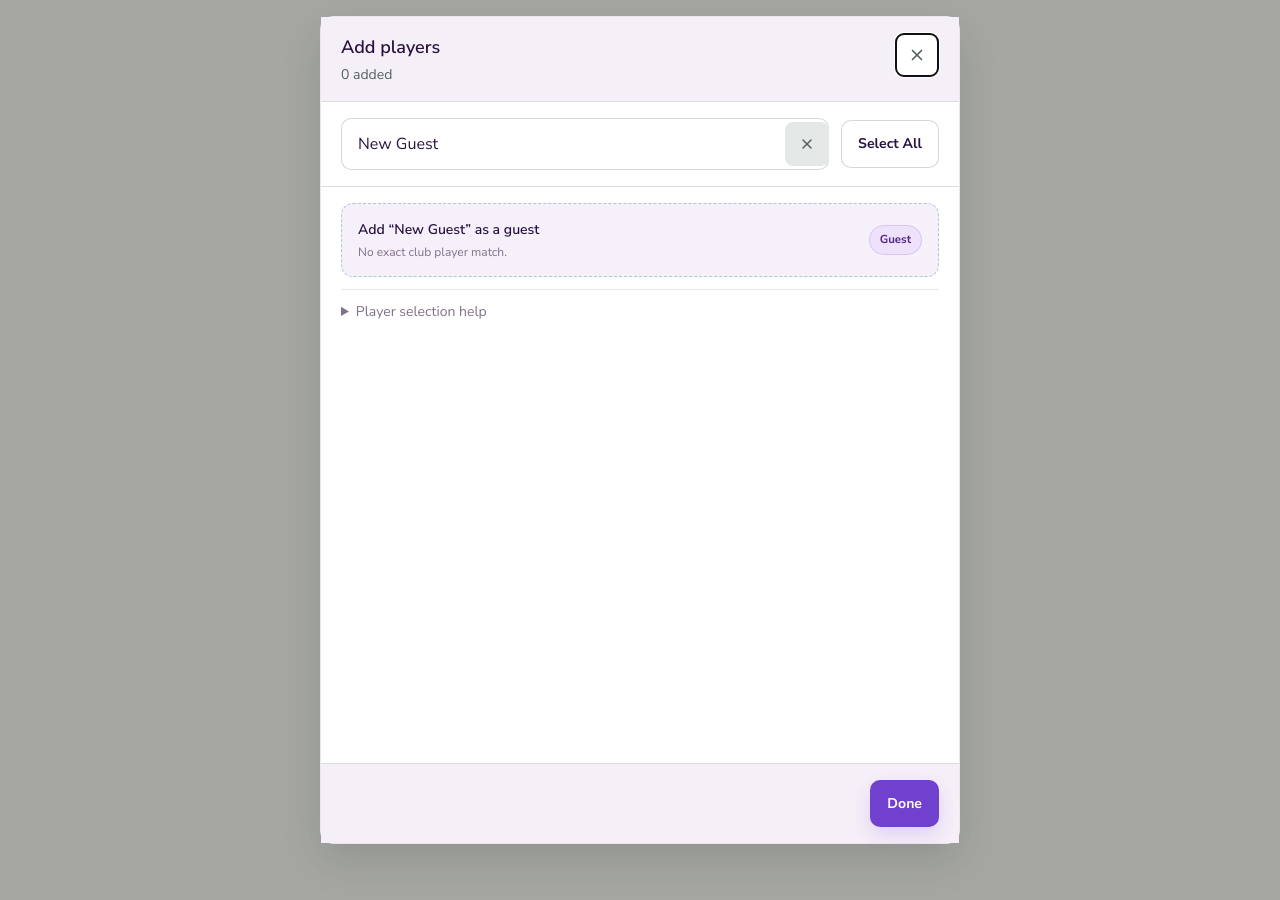
Scenario: ClubPlayersModal saved group preference › offers a guest result only when the search has no exact member match
The image size is (1280, 900).
Step 1. Click the button "Add “New Guest” as a guest No exact club player match. Guest" → point(376, 230), box [341, 203, 939, 277]
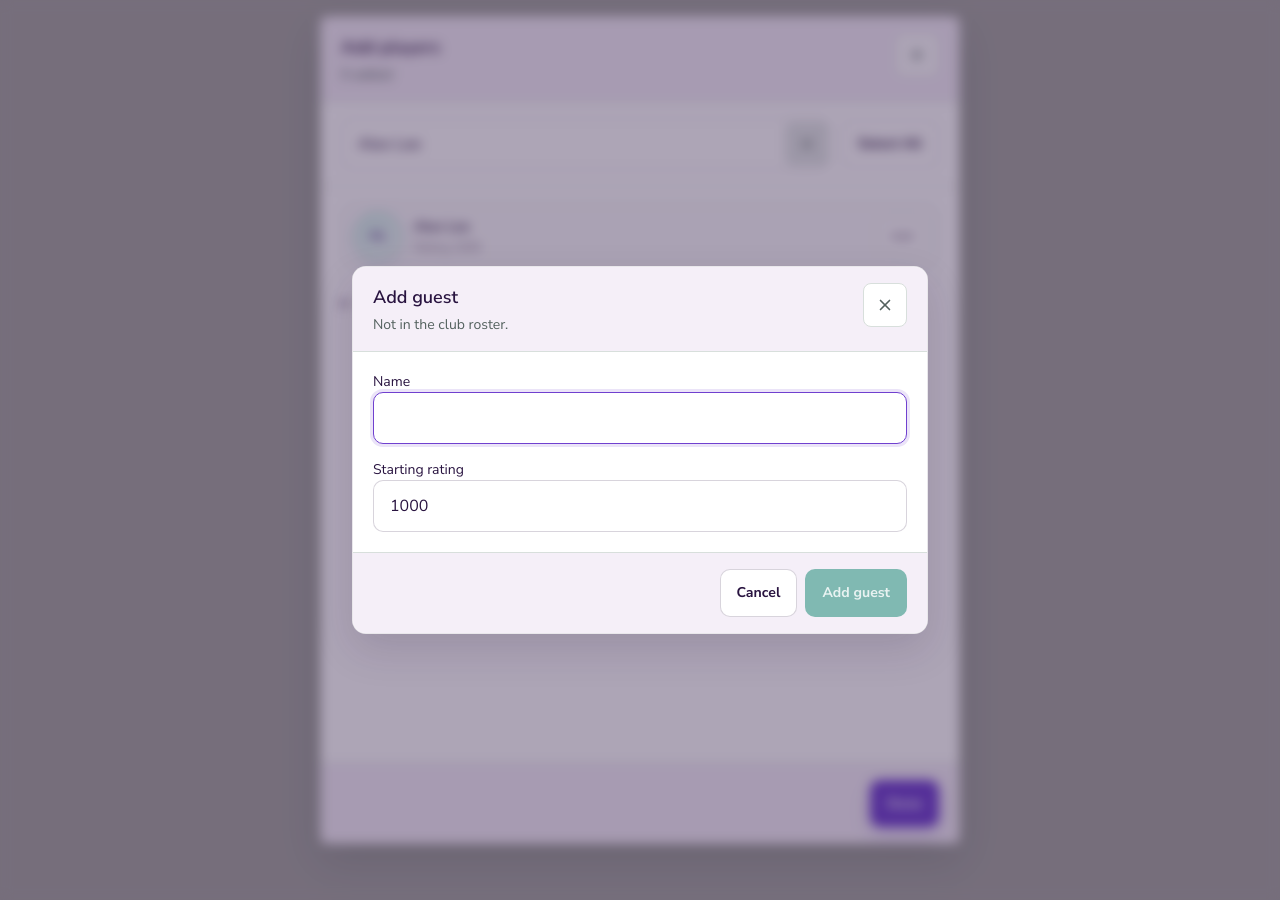
Now the text "Starting rating" is shown, box [373, 460, 464, 479]
Now the number field named "Guest starting rating" holds "1000", box [373, 480, 907, 532]
